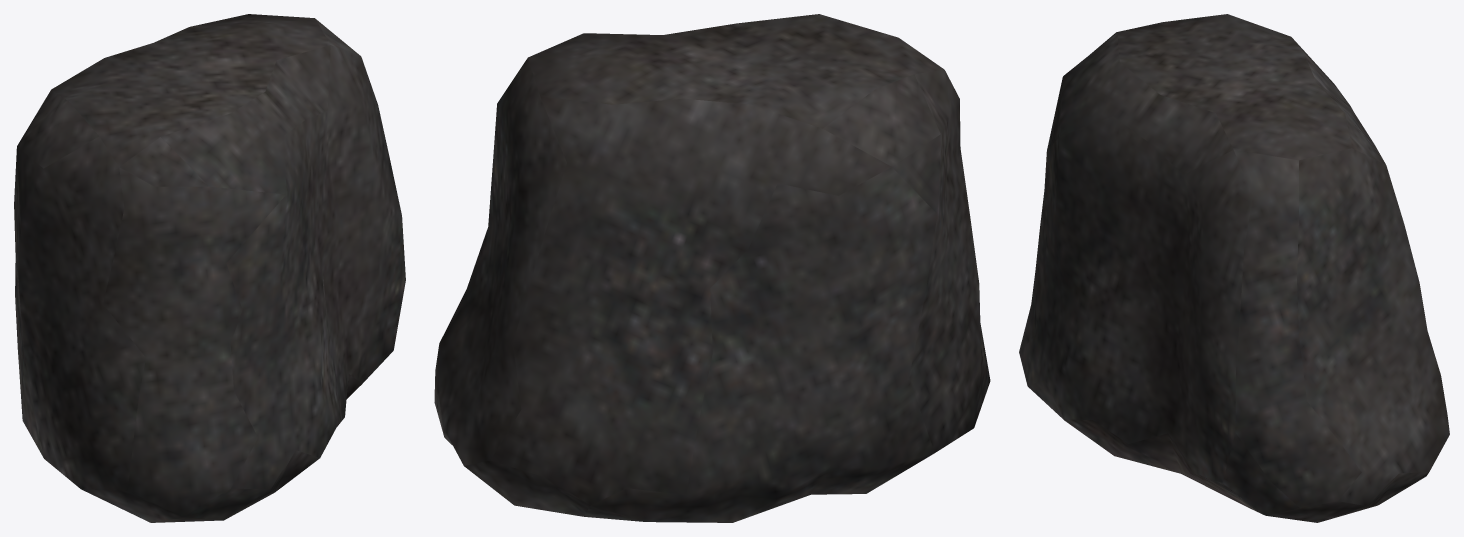
The model's file is rock 1.glb.
The picture shows the model from 3 angles, left to right: view 1: azimuth 30°, elevation 25°; view 2: azimuth 150°, elevation 25°; view 3: azimuth 270°, elevation 25°; orthographic projection. The views are drawn at different scales.
Visible parts, largest first — view 1: AR01; view 2: AR01; view 3: AR01.
Part boxes in pixels (x1,y1,x2,y2): AR01: (14,14,405,522); AR01: (434,14,990,522); AR01: (1019,14,1449,522).
Size of the model in its own units: 10.08 by 9.01 by 9.57.
Materials: 1 (1 with a texture image).
